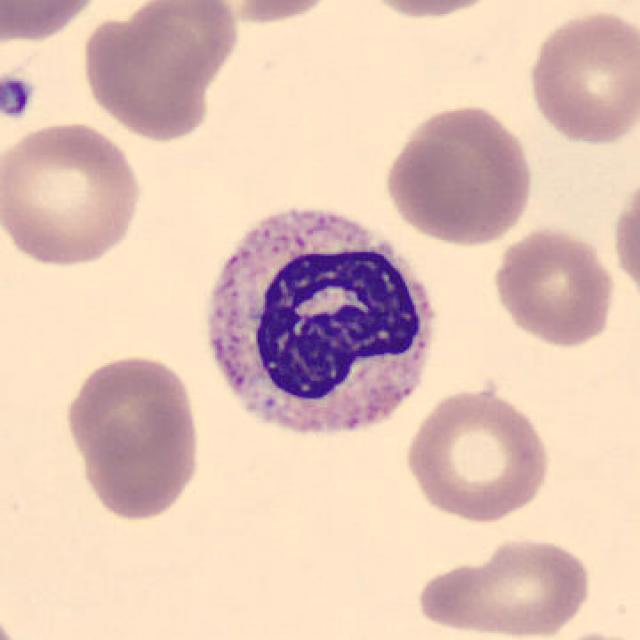Neutrophil: (188, 192, 450, 462)
Platelets: (0, 70, 37, 121)
RBC: (62, 351, 206, 524), (381, 100, 538, 247), (0, 116, 146, 272), (400, 382, 555, 526), (76, 5, 222, 143), (412, 532, 596, 640), (489, 222, 619, 351), (523, 7, 638, 148), (118, 0, 244, 97), (0, 0, 108, 44), (188, 0, 345, 28), (610, 167, 640, 307), (352, 0, 510, 21)
